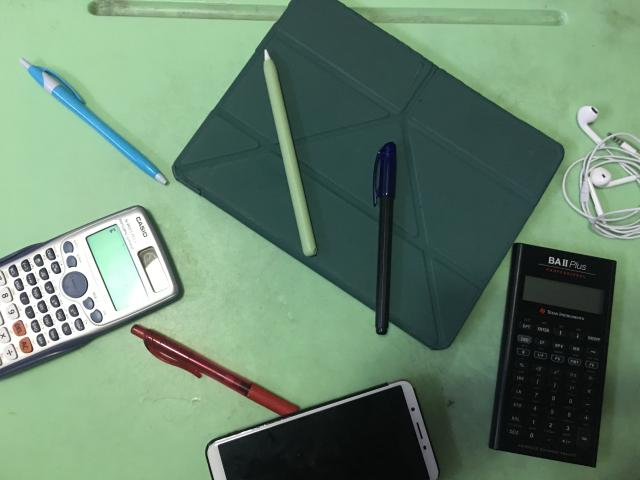Mobile phone: (204, 381, 439, 480)
Pen: (20, 60, 168, 186), (132, 327, 300, 417), (373, 143, 398, 337)
wire: (560, 108, 640, 241)
